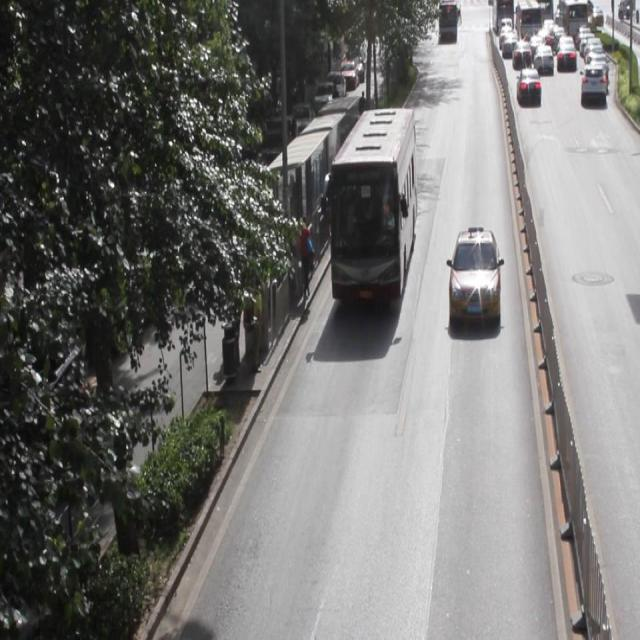car: (447, 228, 499, 324)
van: (330, 109, 416, 298)
